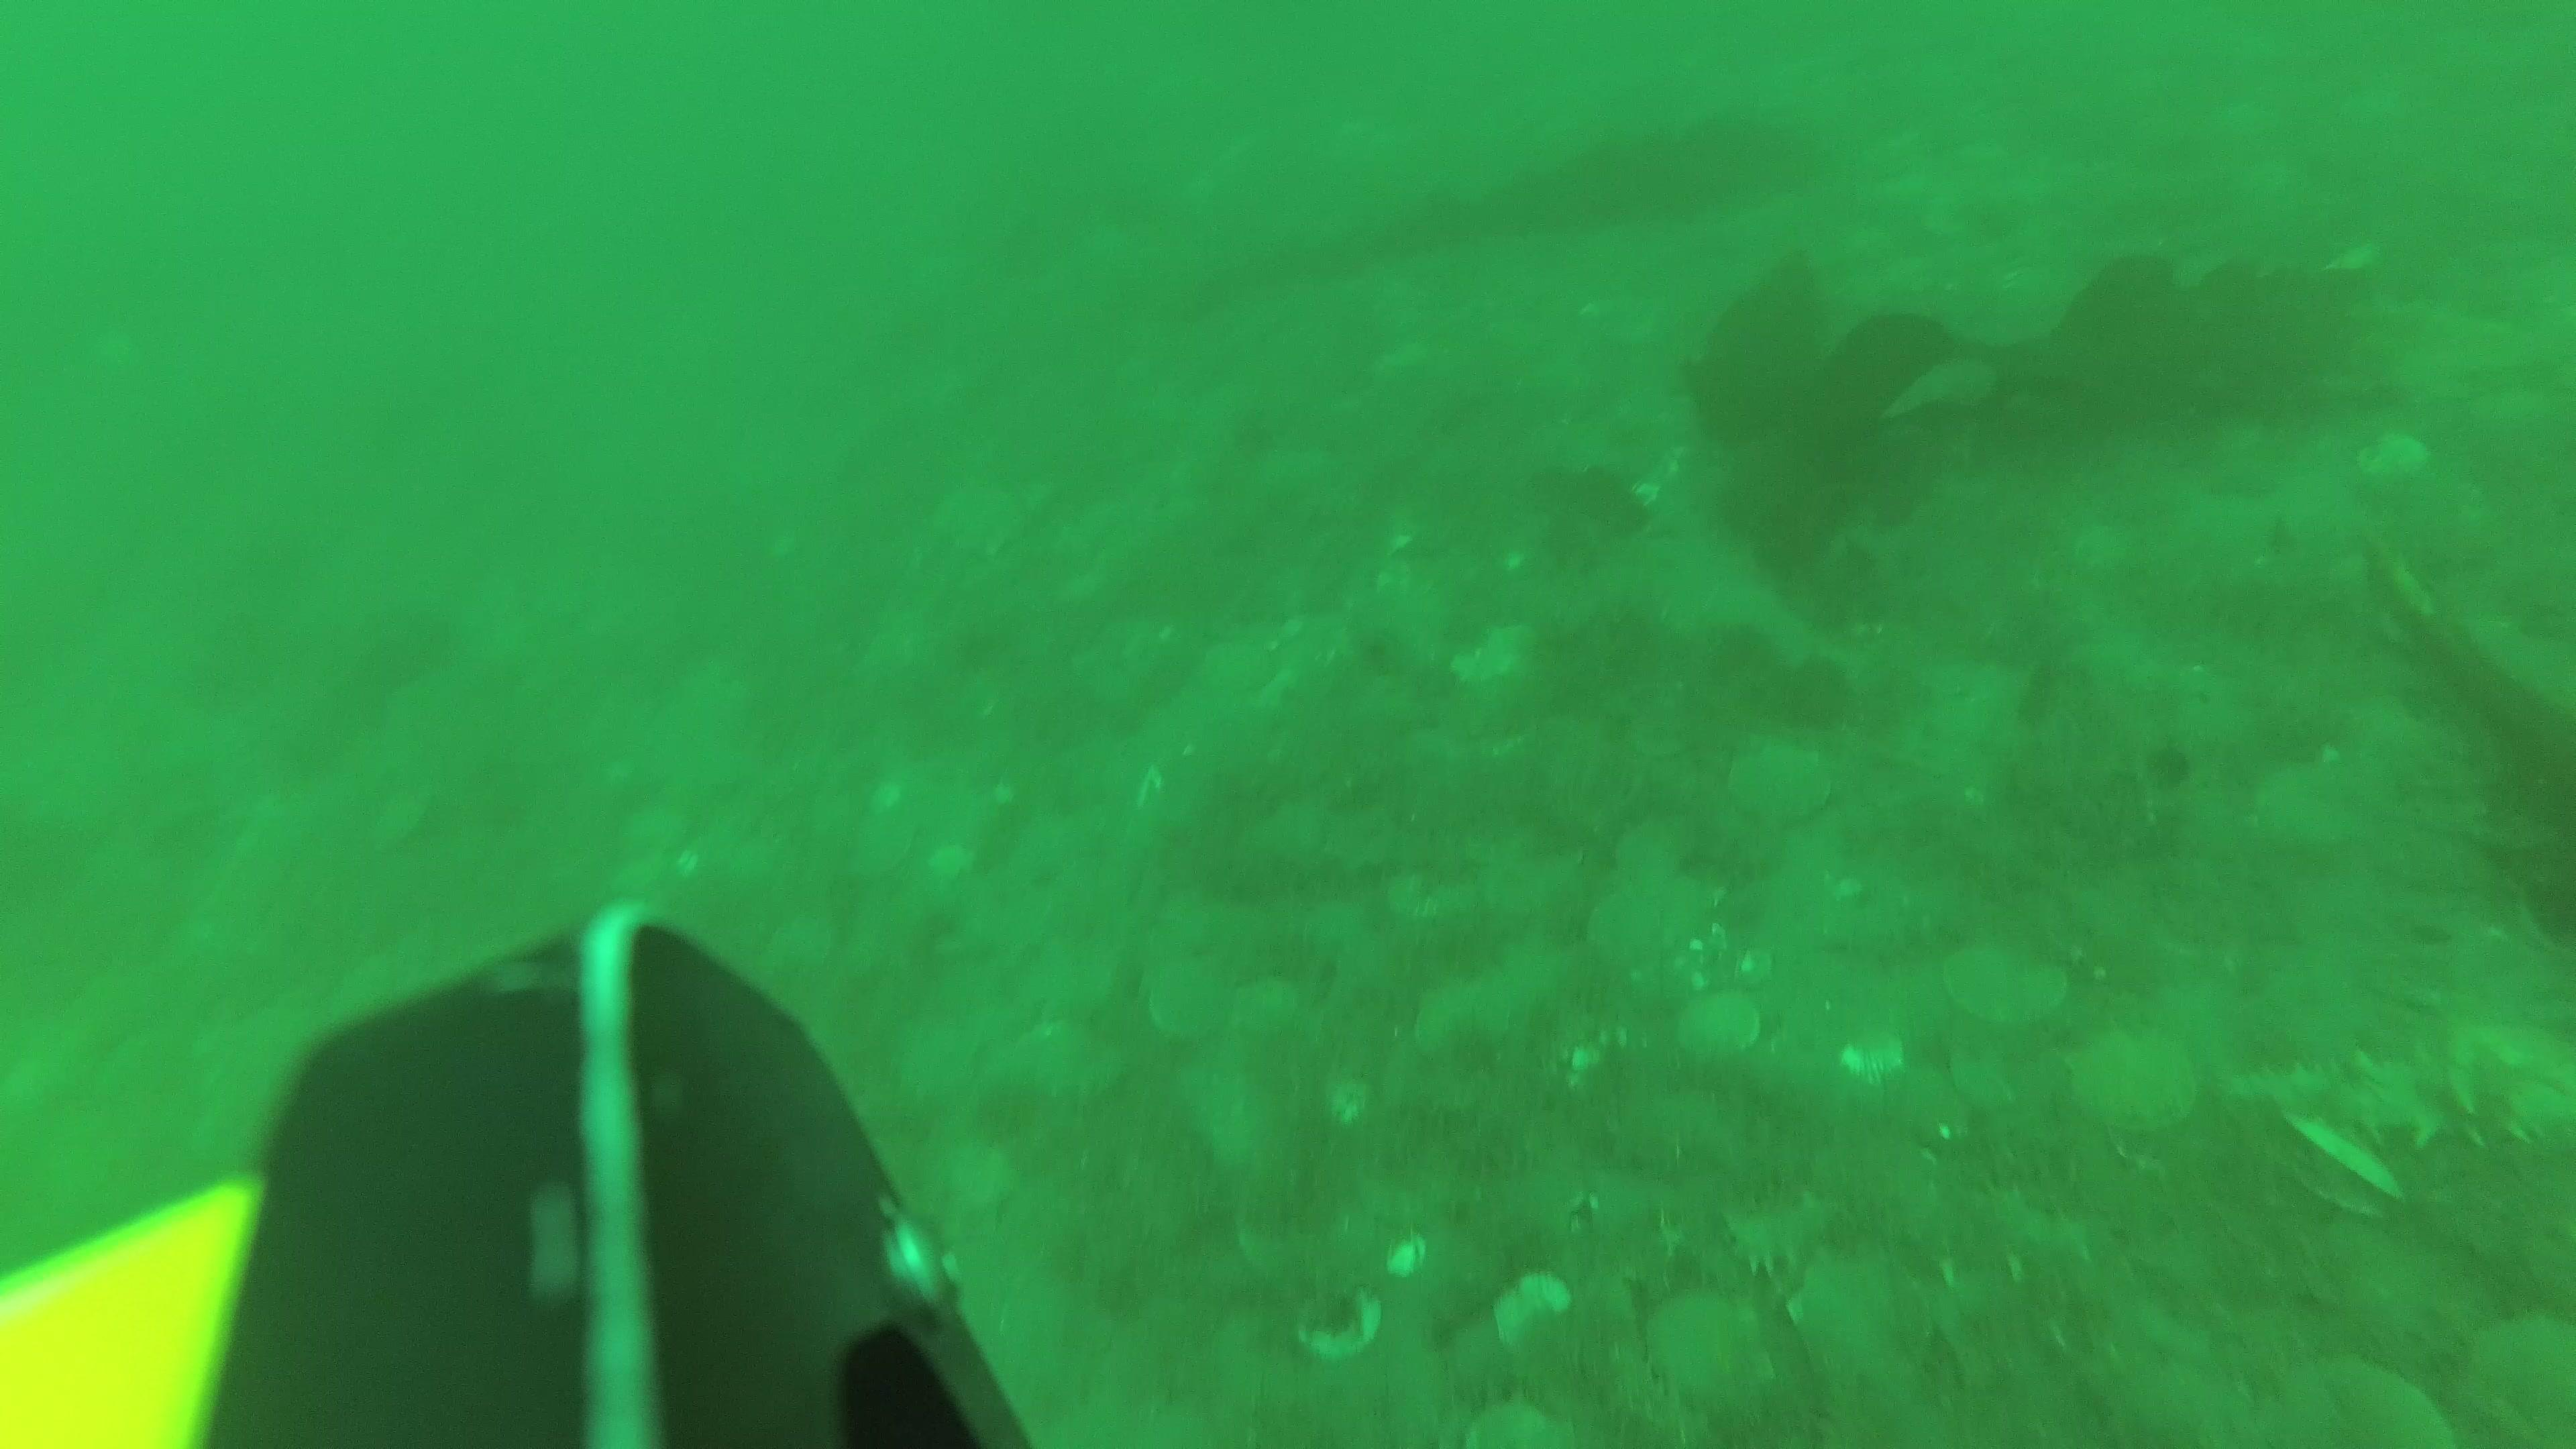holothurian: (2231, 1035, 2576, 1152), (1886, 1191, 2097, 1279), (1713, 1198, 1844, 1276)
scallop: (2254, 1355, 2449, 1449), (1640, 1283, 1769, 1403), (2063, 1031, 2201, 1134), (1792, 1258, 1905, 1380), (1941, 941, 2077, 1040), (1591, 867, 1721, 968), (2291, 1108, 2396, 1219), (1727, 741, 1835, 833), (1679, 982, 1785, 1070), (1145, 962, 1240, 1054), (1844, 1030, 1907, 1085)
